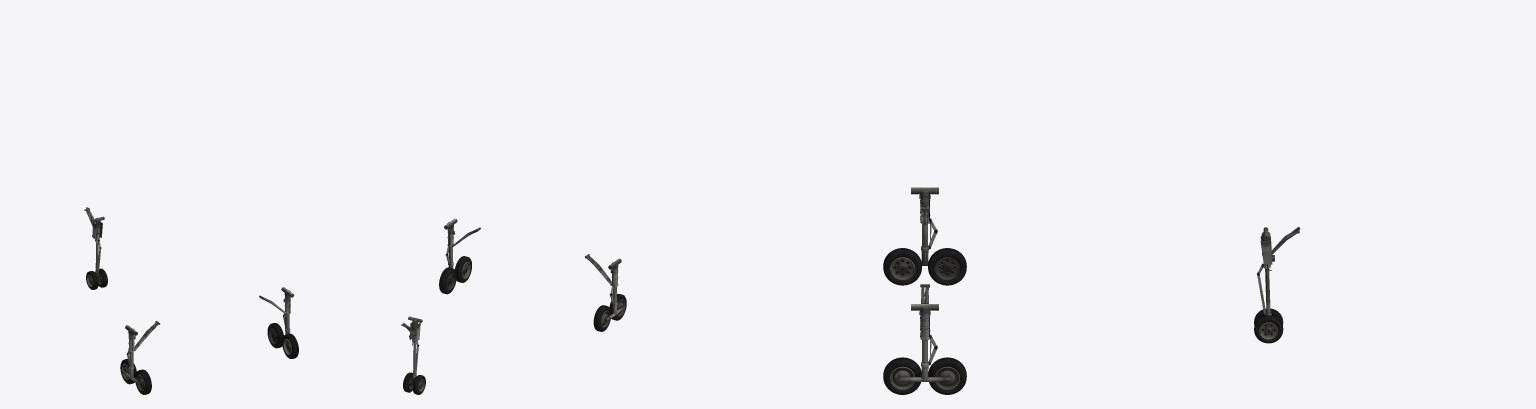
File: e_viggen_gear.glb
3 renders of one model, left to right at view 1: azimuth 30°, elevation 25°; view 2: azimuth 150°, elevation 25°; view 3: azimuth 270°, elevation 25°, orthographic. The views are drawn at different scales.
Parts seen in each view (by area): view 1: body|Viggen_paint; view 2: body|Viggen_paint; view 3: body|Viggen_paint.
Part boxes in pixels (<box>): body|Viggen_paint: <box>84,207,298,394</box>; body|Viggen_paint: <box>401,218,626,394</box>; body|Viggen_paint: <box>883,187,1300,394</box>.
Bounding box in the file's own units: 5.28 × 6.65 × 16.06.
Materials: 1 (1 with a texture image).
